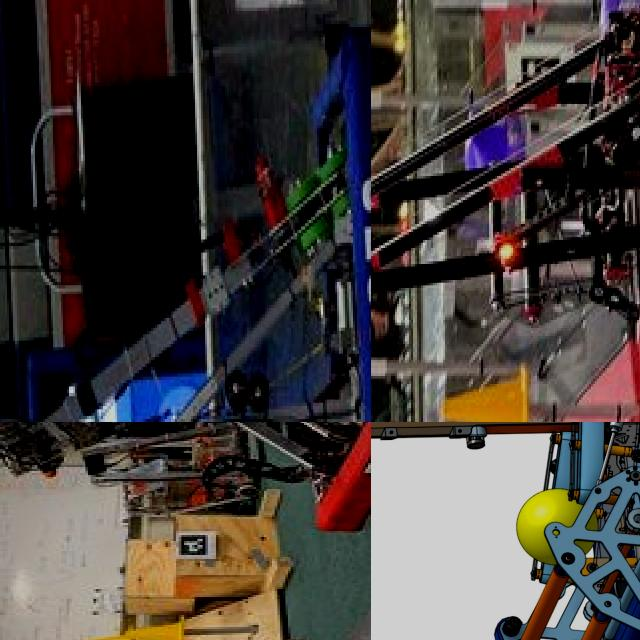FRC-Robots: (0, 7, 371, 422), (371, 0, 640, 397), (371, 422, 640, 640), (0, 422, 371, 556)
